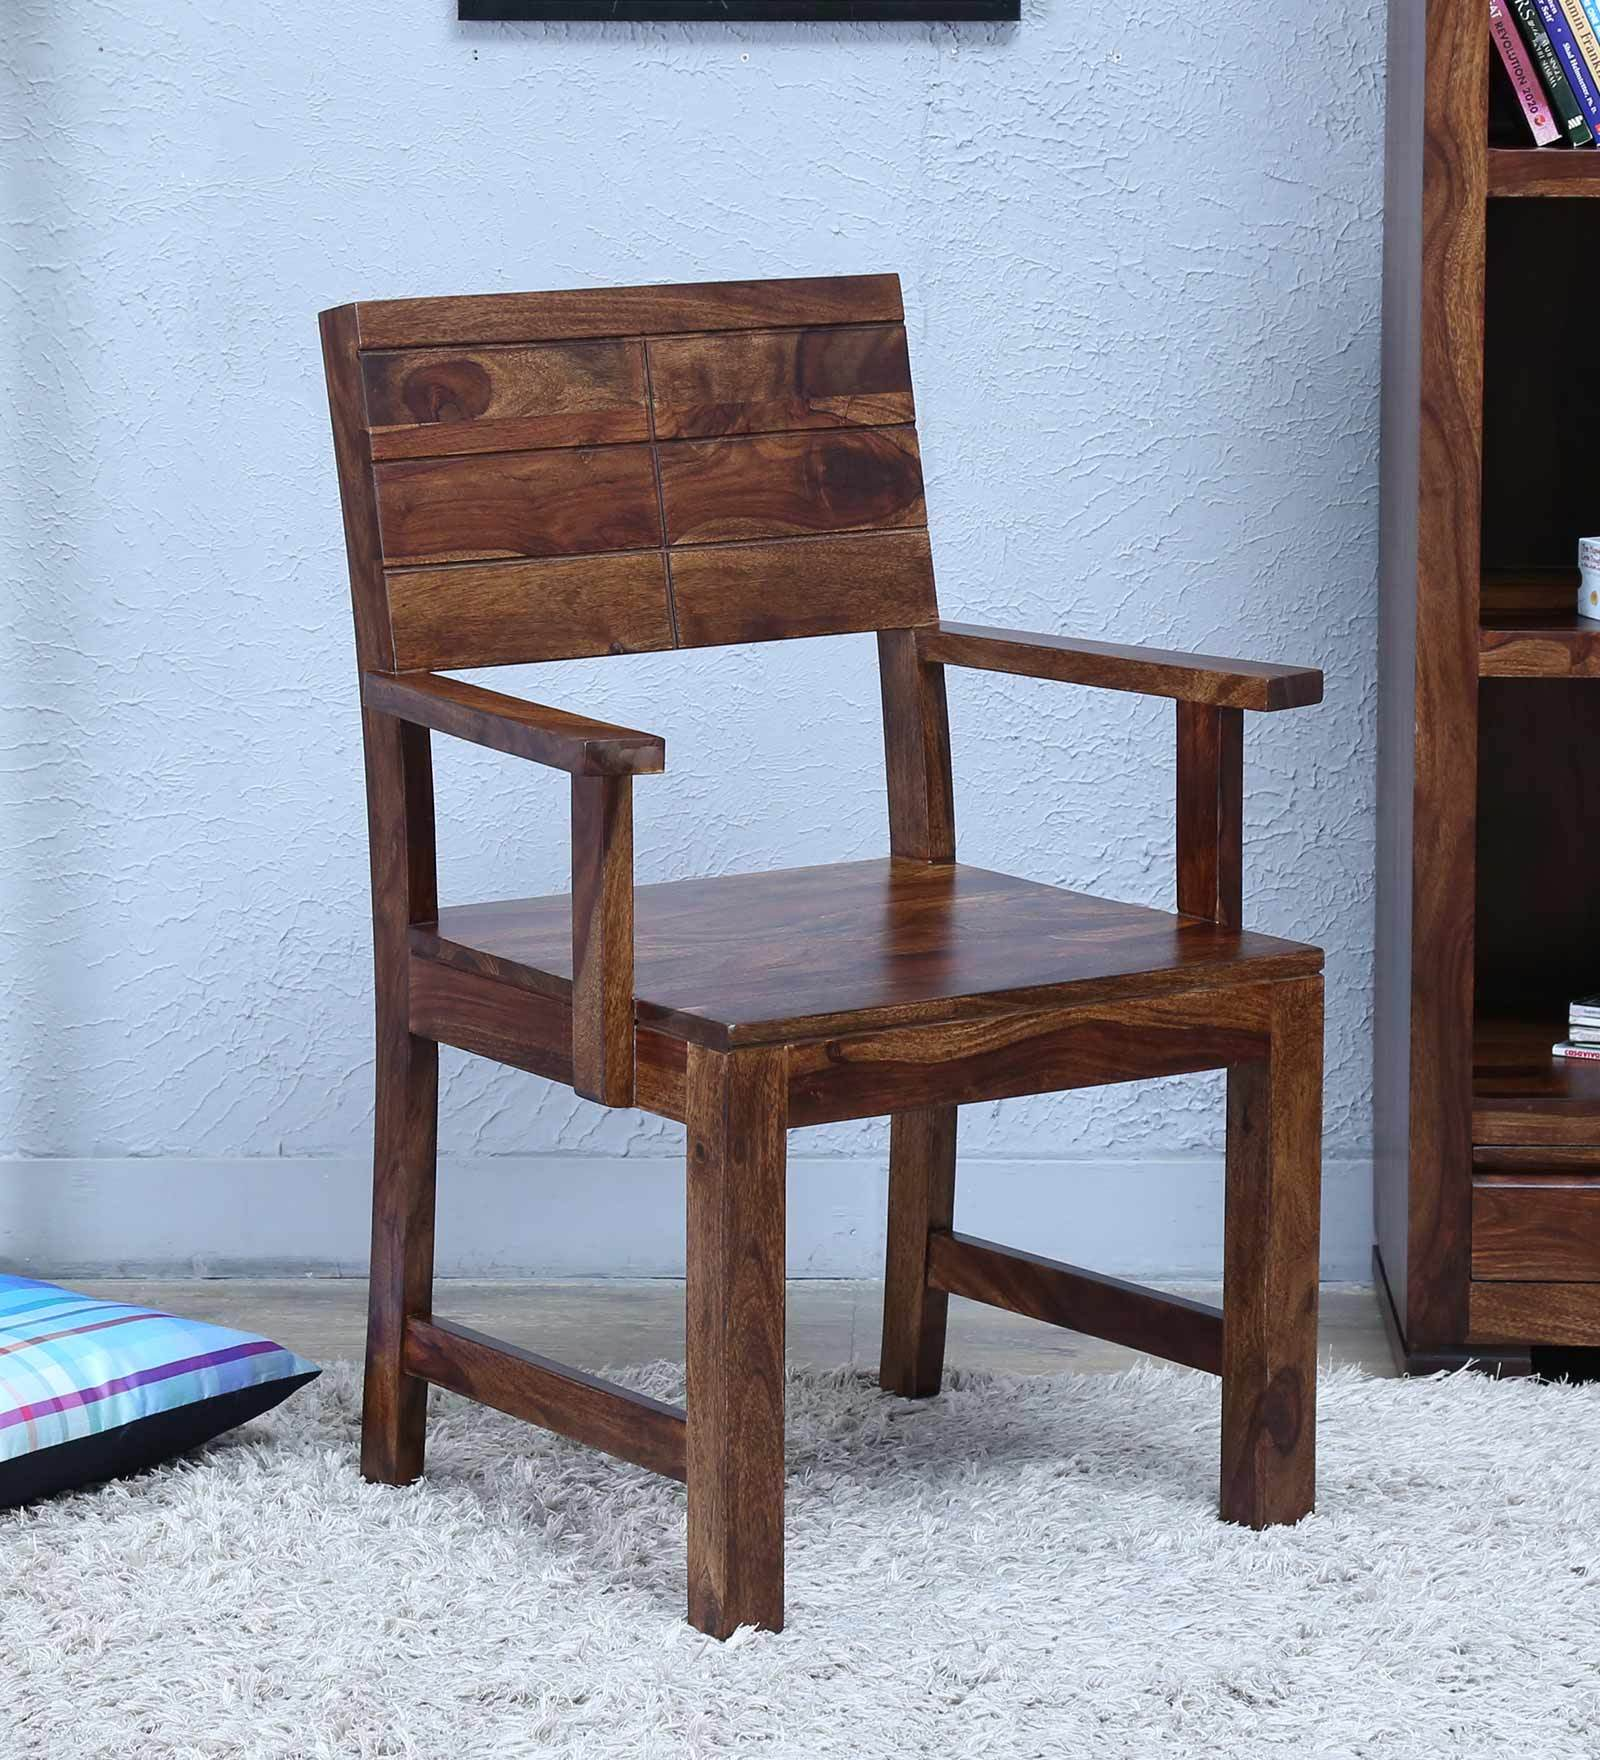Segur Arm Chair in Provincial Teak Finish by Woodsworth: (284, 254, 1379, 1634)
